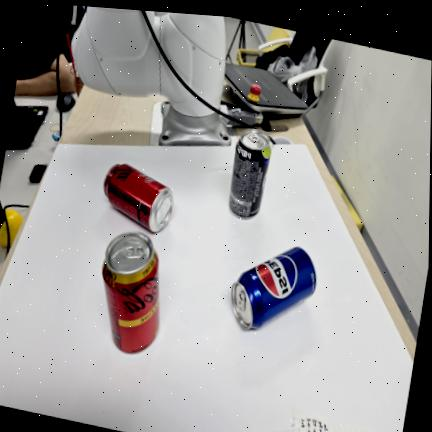can_coke_decaf: (102, 231, 159, 353)
can_coke_zero: (103, 164, 173, 231)
can_pepsi: (231, 247, 316, 329)
can_pepsi_zero: (229, 130, 271, 218)
